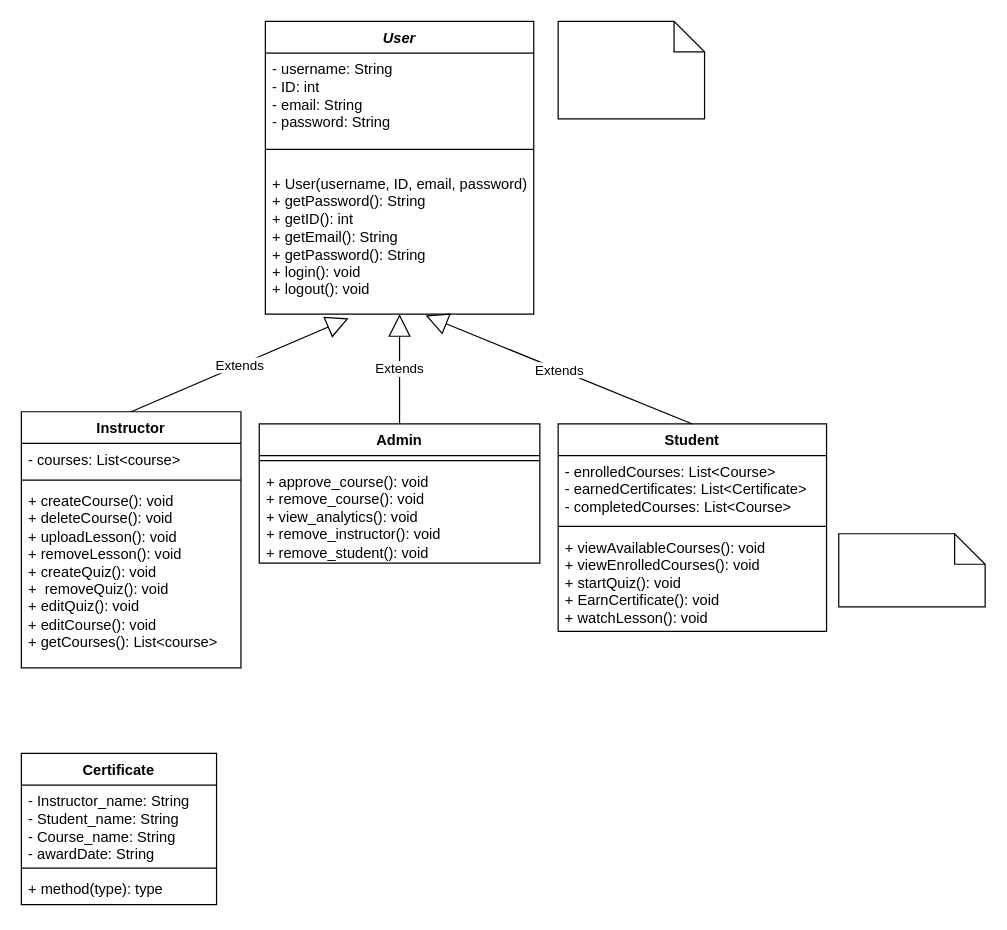
Image size: 1007x930. Some labels were removed from this diagram. Each missing label, with the centre of its shape:
"parameters for login method? are setters important?" goes at (x=631, y=69).
"remove completed courses?" goes at (x=911, y=570).
